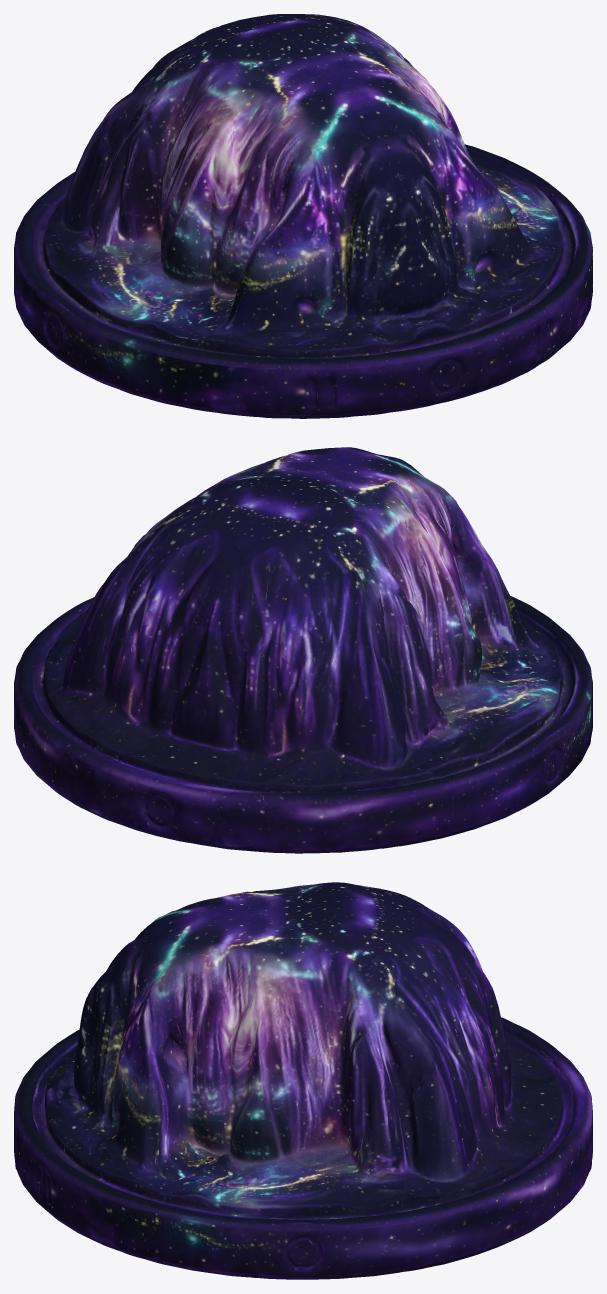
The model's file is uluru_celestial.glb.
3 views of the same model, one above another, from view 1: azimuth 30°, elevation 25°; view 2: azimuth 150°, elevation 25°; view 3: azimuth 270°, elevation 25° (orthographic).
Visible parts, largest first — view 1: Mesh_0; view 2: Mesh_0; view 3: Mesh_0.
Boxes of the visible parts, box(x1,y1,x2,y2) form: Mesh_0: box(14, 14, 592, 418); Mesh_0: box(14, 447, 592, 853); Mesh_0: box(14, 882, 592, 1279).
Bounding box in the file's own units: 1.91 × 0.9312 × 1.91.
1 material, 1 textured.
